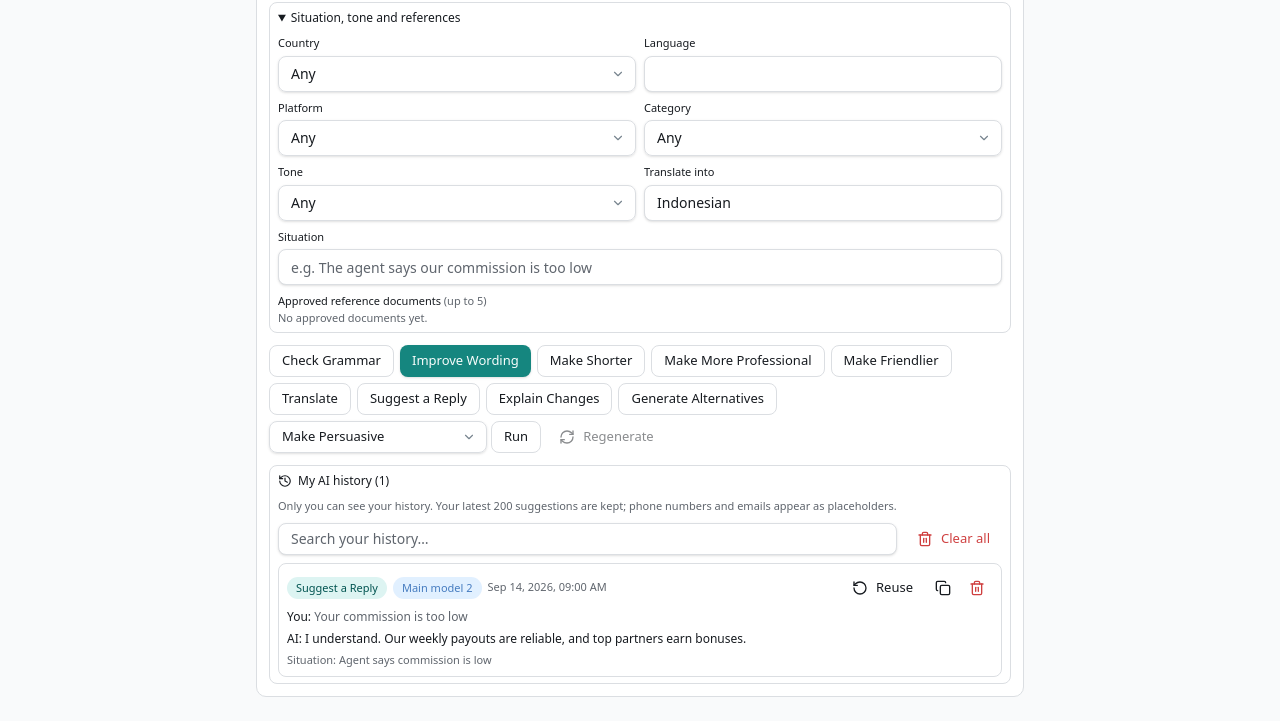
it: Shared Spiel Library page › lists the member's AI history, reuses an entry and removes one
This screenshot has width=1280, height=721.
(page scrolled)
Check: the text "You: Your commission is too low" is shown, box left=287, top=608, right=468, bottom=624
Check: the text "Main model 2" is shown, box left=393, top=576, right=482, bottom=598
Click the button with aria-label "Reuse suggestion". click: x=882, y=588
box: left=840, top=572, right=925, bottom=604
(page scrolled)
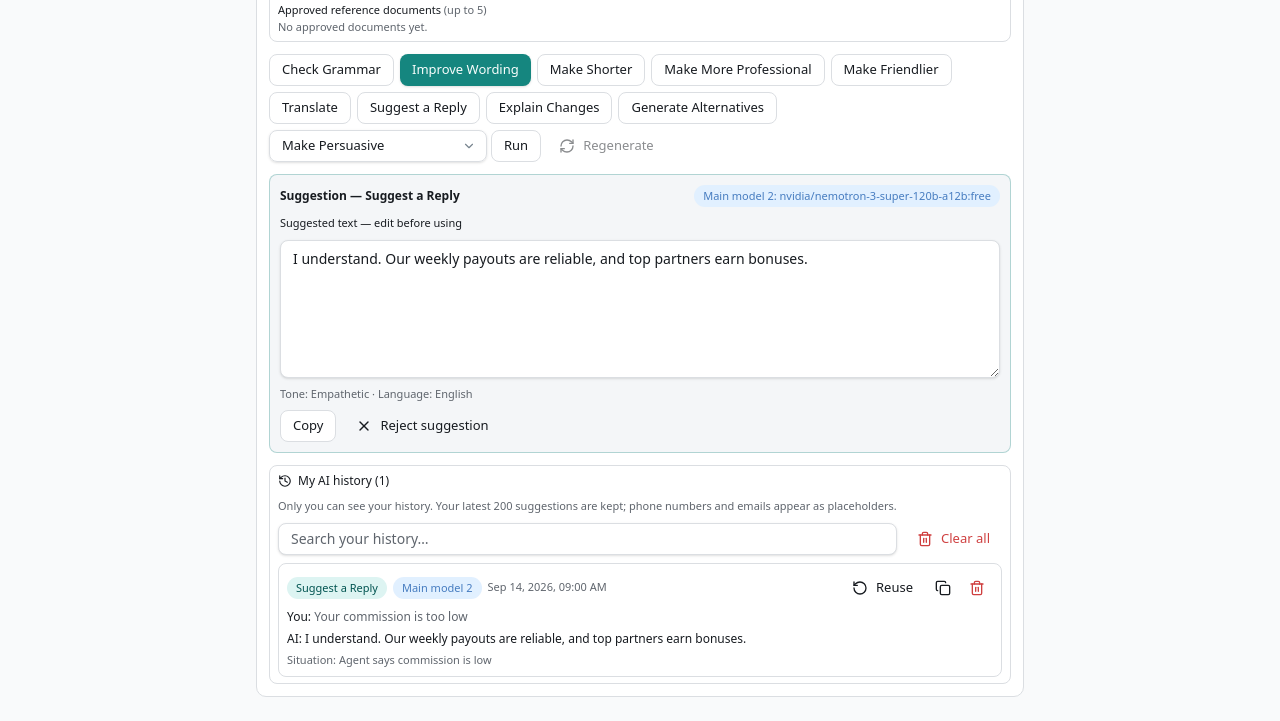
Click the button named "Remove history entry". click: x=977, y=588
box: left=961, top=572, right=993, bottom=604
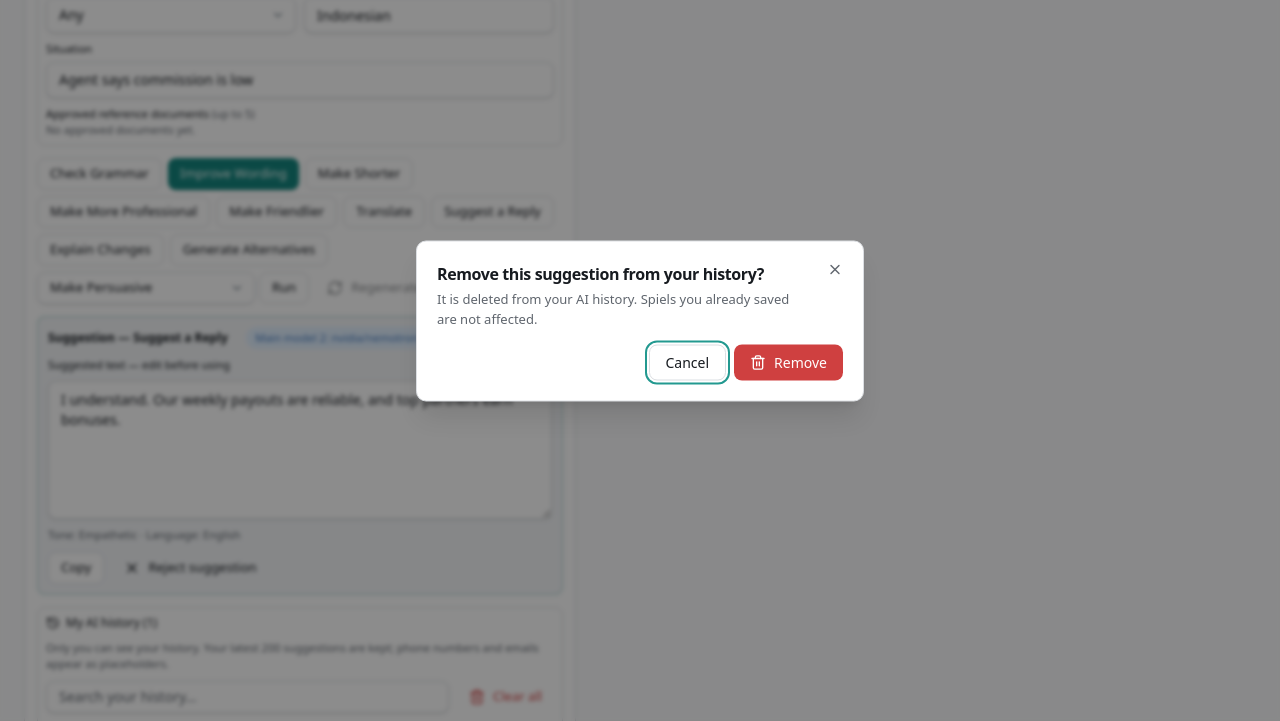
Click the button "Remove". click: x=789, y=362
box: left=734, top=344, right=843, bottom=380
(page scrolled)
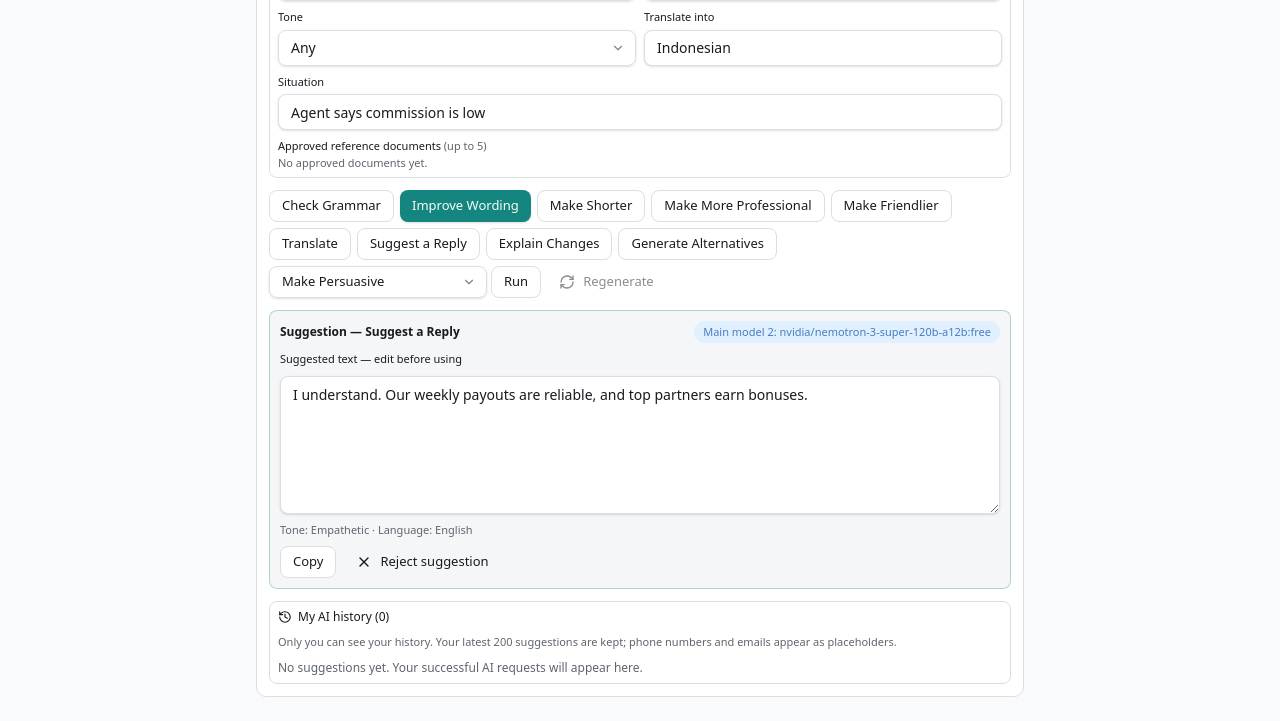
Check: the text "No suggestions yet" is shown, box left=278, top=658, right=643, bottom=676
